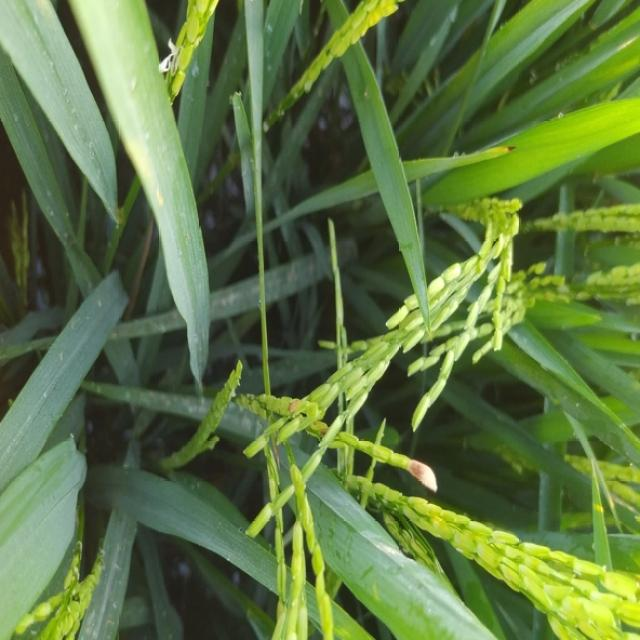Brown spot: (487, 133, 520, 164)
